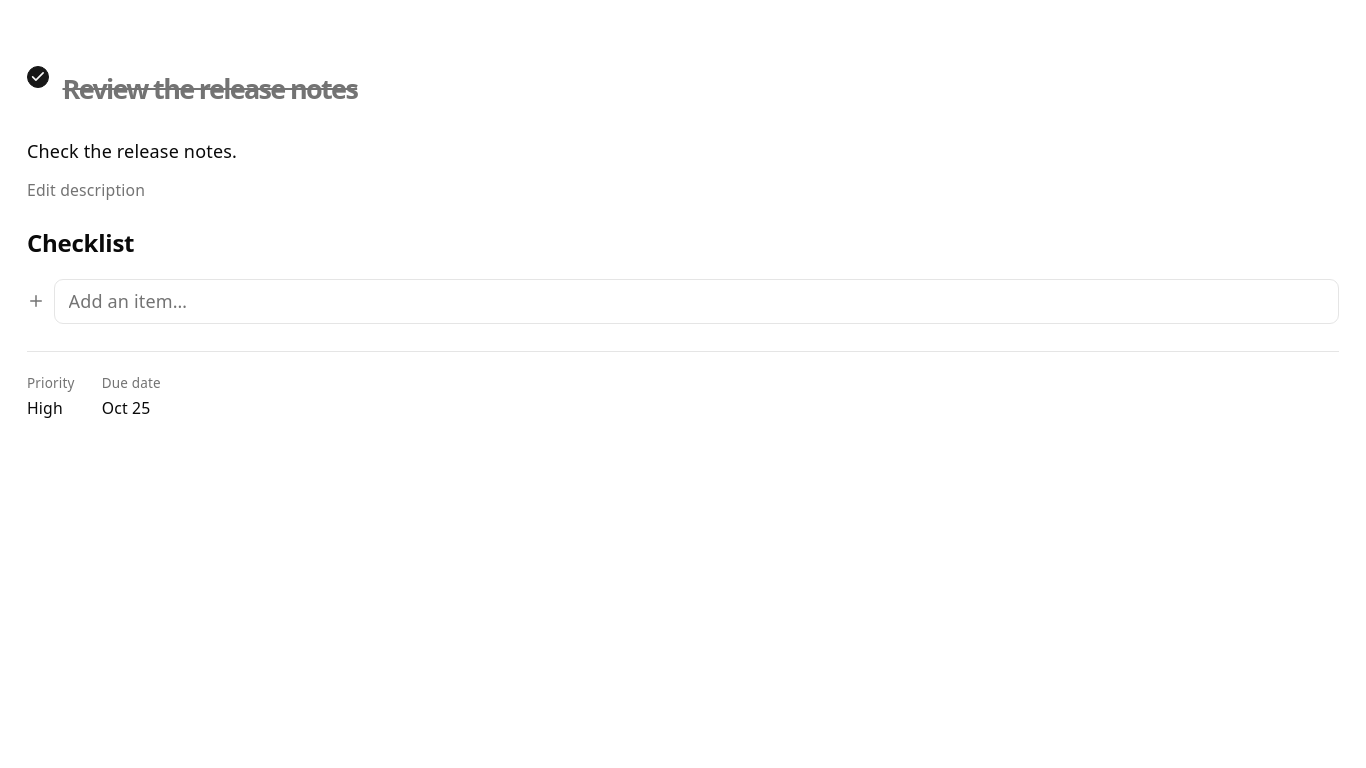
Test case: TaskDetailView › keeps descriptions editable for completed and archived tasks
The image size is (1366, 768).
Click the button with aria-label "Edit task description" at (86, 190), box [27,179,145,201]
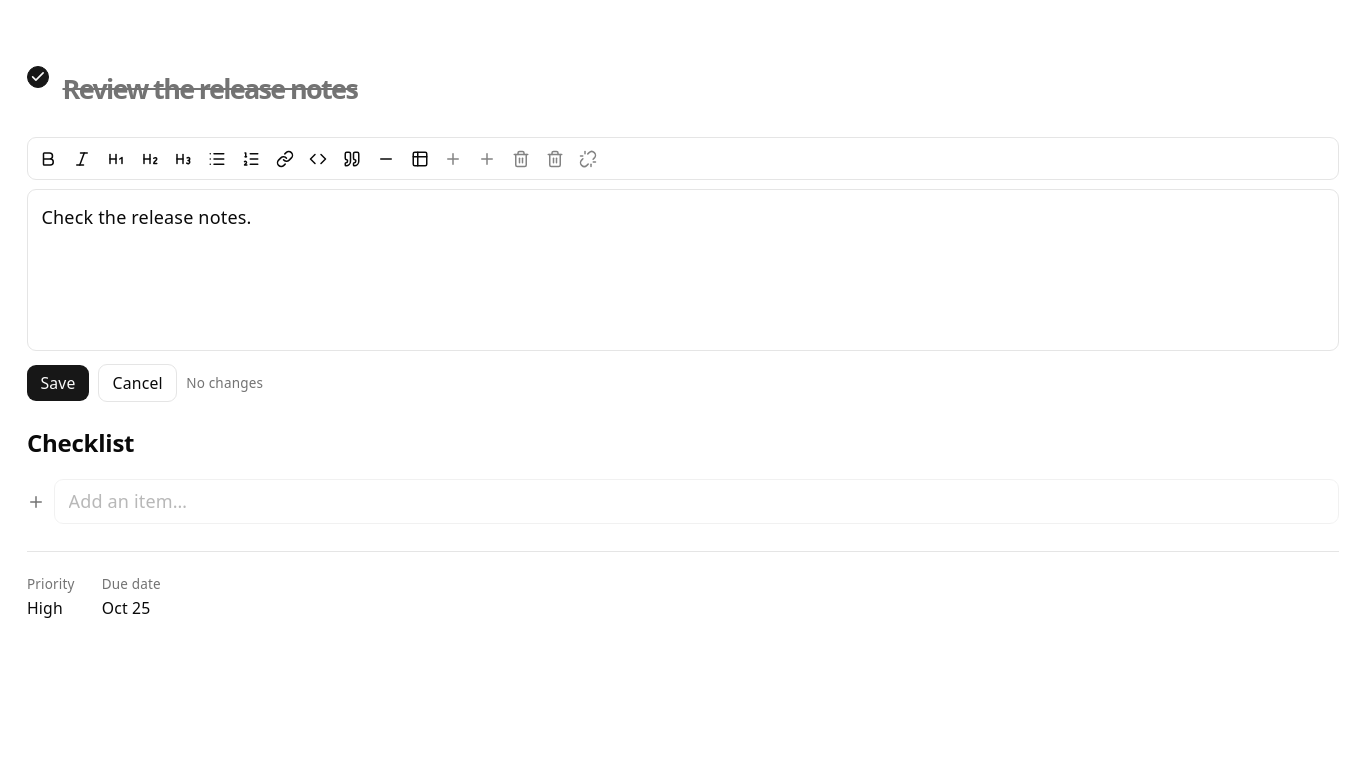
Expected: the field named "Task description editor" is shown, [27,189,1339,351]
